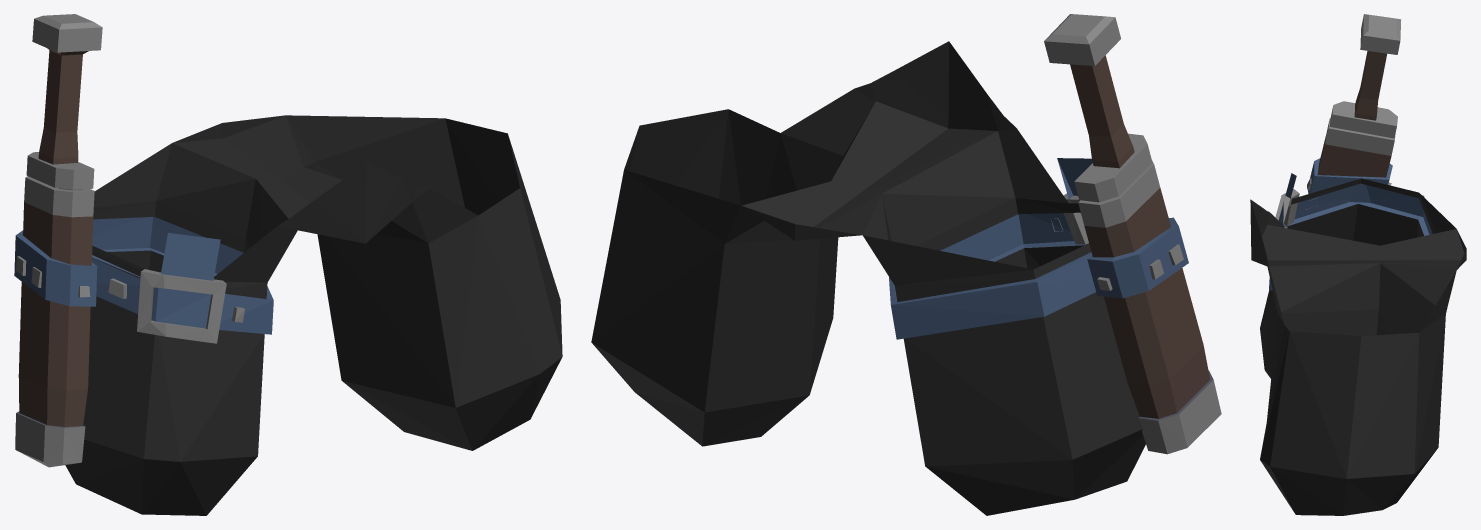
Rendered from LegendaryRogueNoblePants.dae.
The picture shows the model from 3 angles, left to right: view 1: azimuth 30°, elevation 25°; view 2: azimuth 150°, elevation 25°; view 3: azimuth 270°, elevation 25°; orthographic projection. The views are drawn at different scales.
Visible parts, largest first — view 1: Pants; view 2: Pants; view 3: Pants.
Boxes of the visible parts, <box> form: Pants: <box>14,14,562,515</box>; Pants: <box>591,14,1221,515</box>; Pants: <box>1250,14,1466,515</box>.
Bounding box in the file's own units: 2.95 × 1.35 × 2.48.
